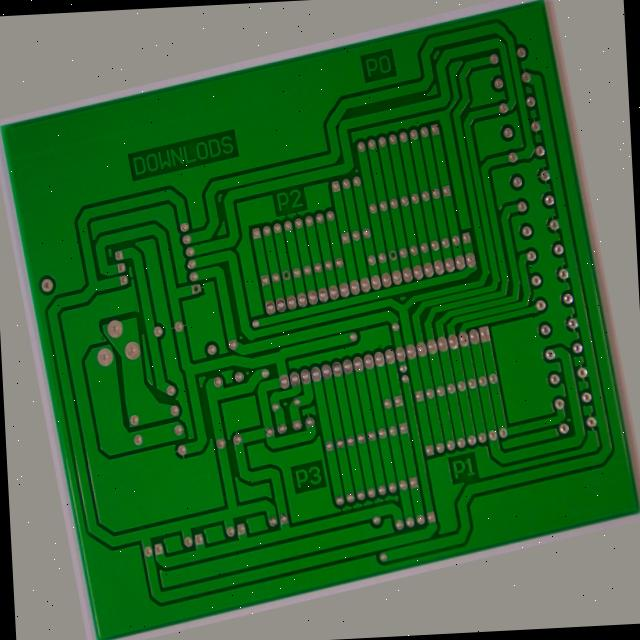missing_hole: (180, 247, 196, 266), (283, 251, 296, 271), (404, 252, 418, 270)
